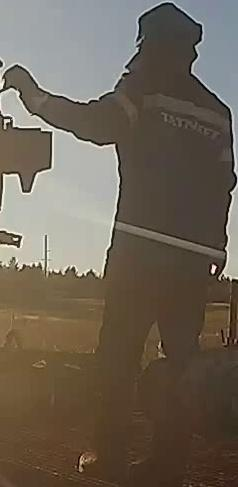gloves: (1, 63, 52, 121)
vest: (118, 68, 228, 293)
